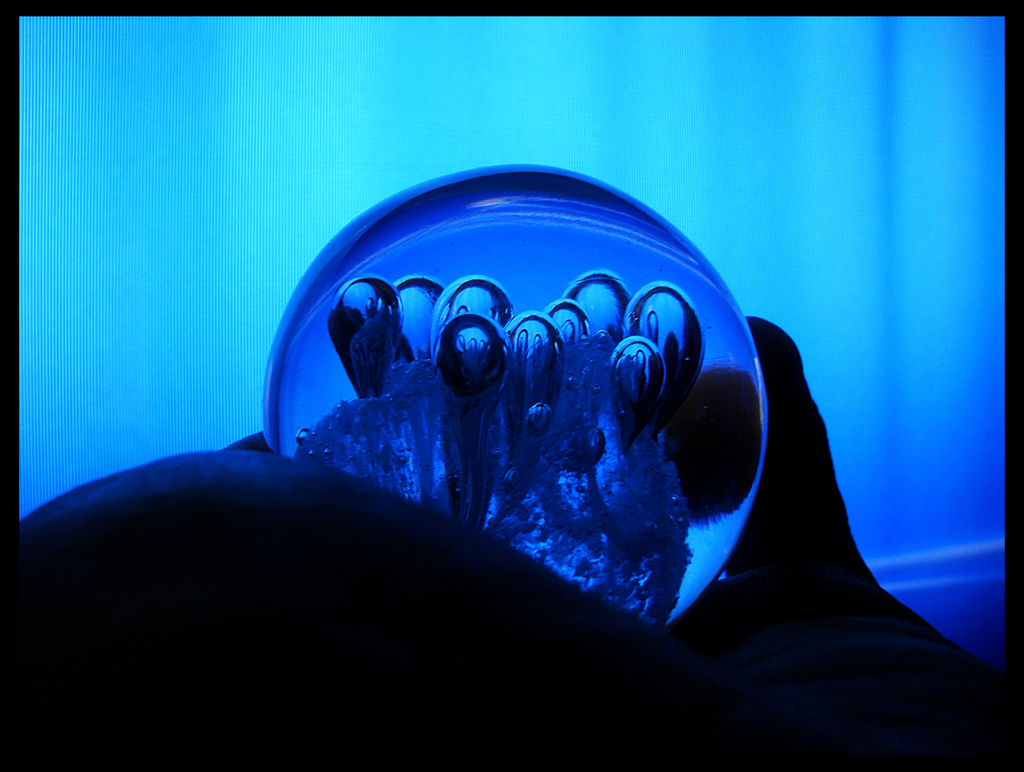Jellyfish: (256, 155, 775, 634)
